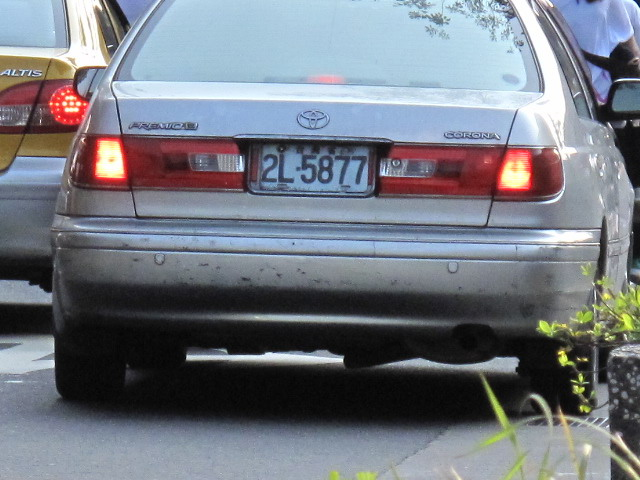plate: (258, 139, 372, 197)
